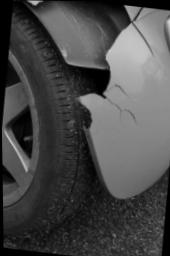Bumper: (27, 0, 170, 198)
